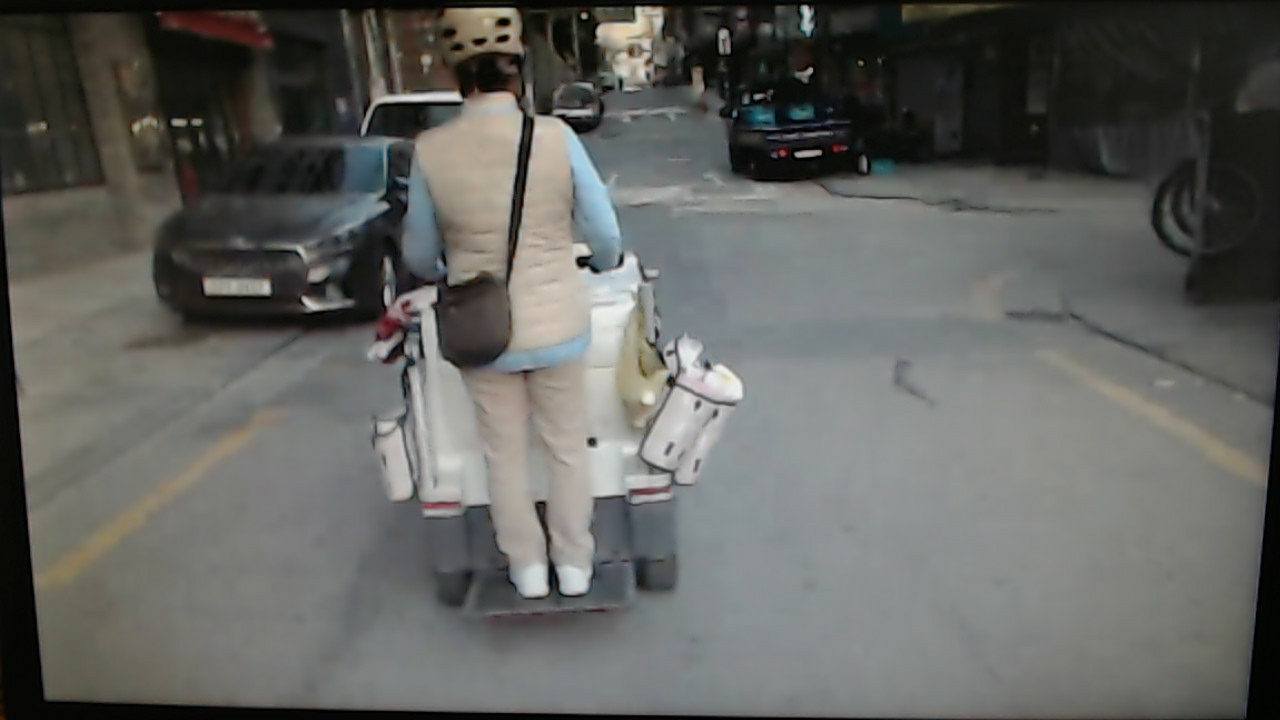Yakurut: (368, 12, 648, 606)
